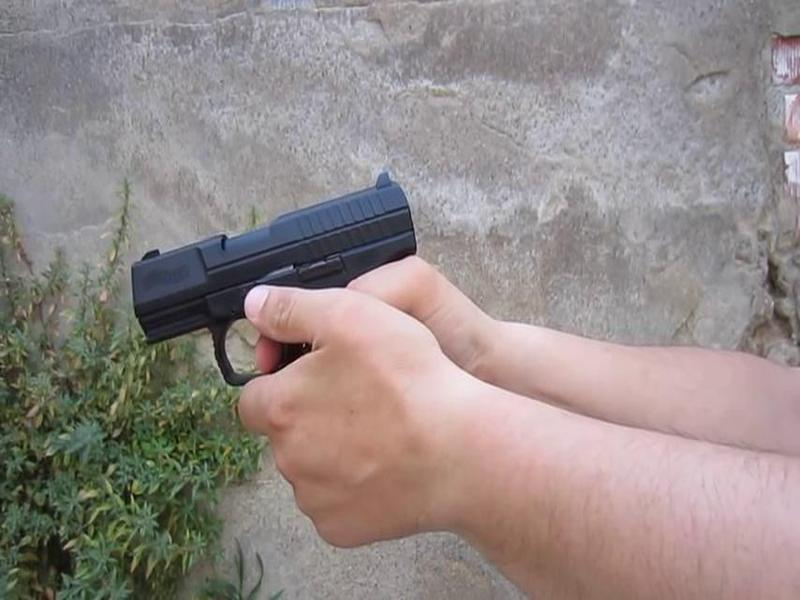Pistola: (124, 140, 421, 373)
